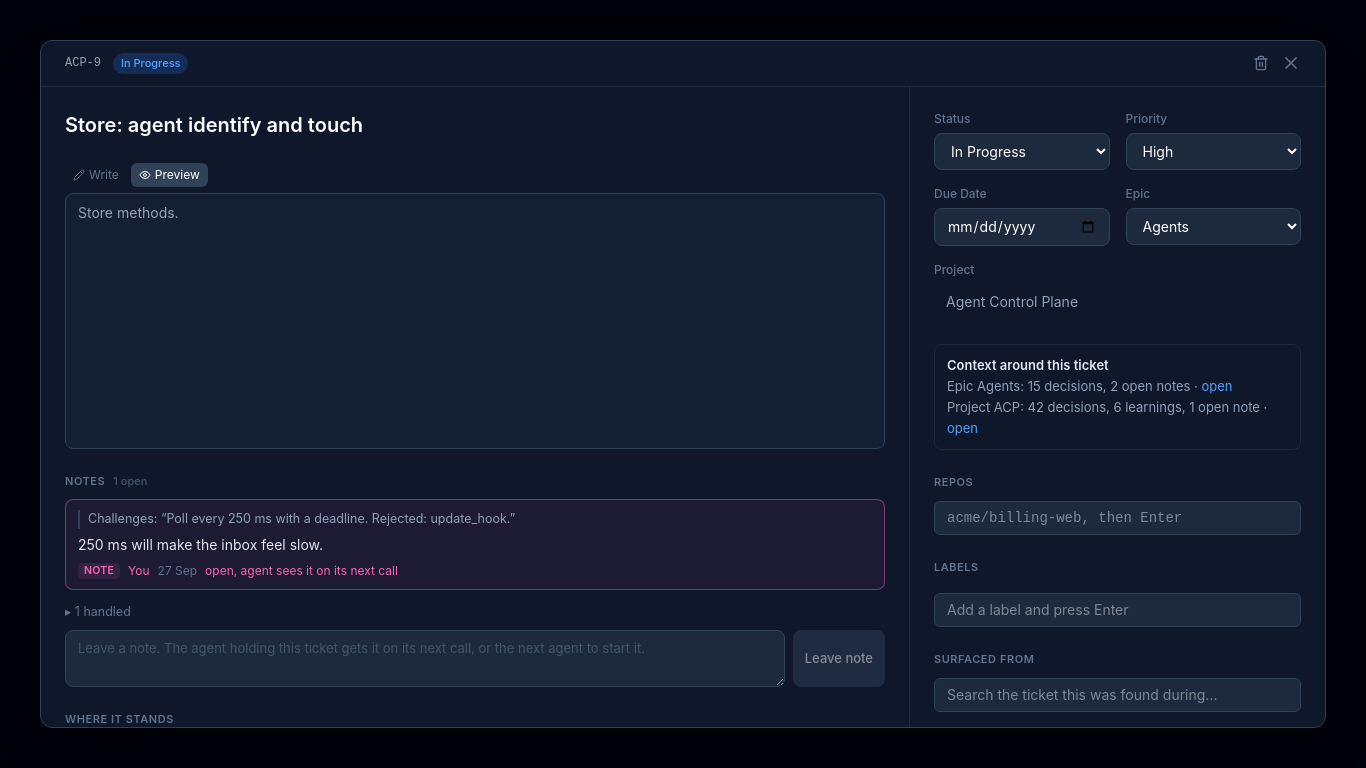
Test: the ticket page's entries › groups entries by type in reading order, status history last
Check: the text "Use a temp DB." is not shown
Click the button "▸ 1 handled": (98, 612) [65,603,131,622]
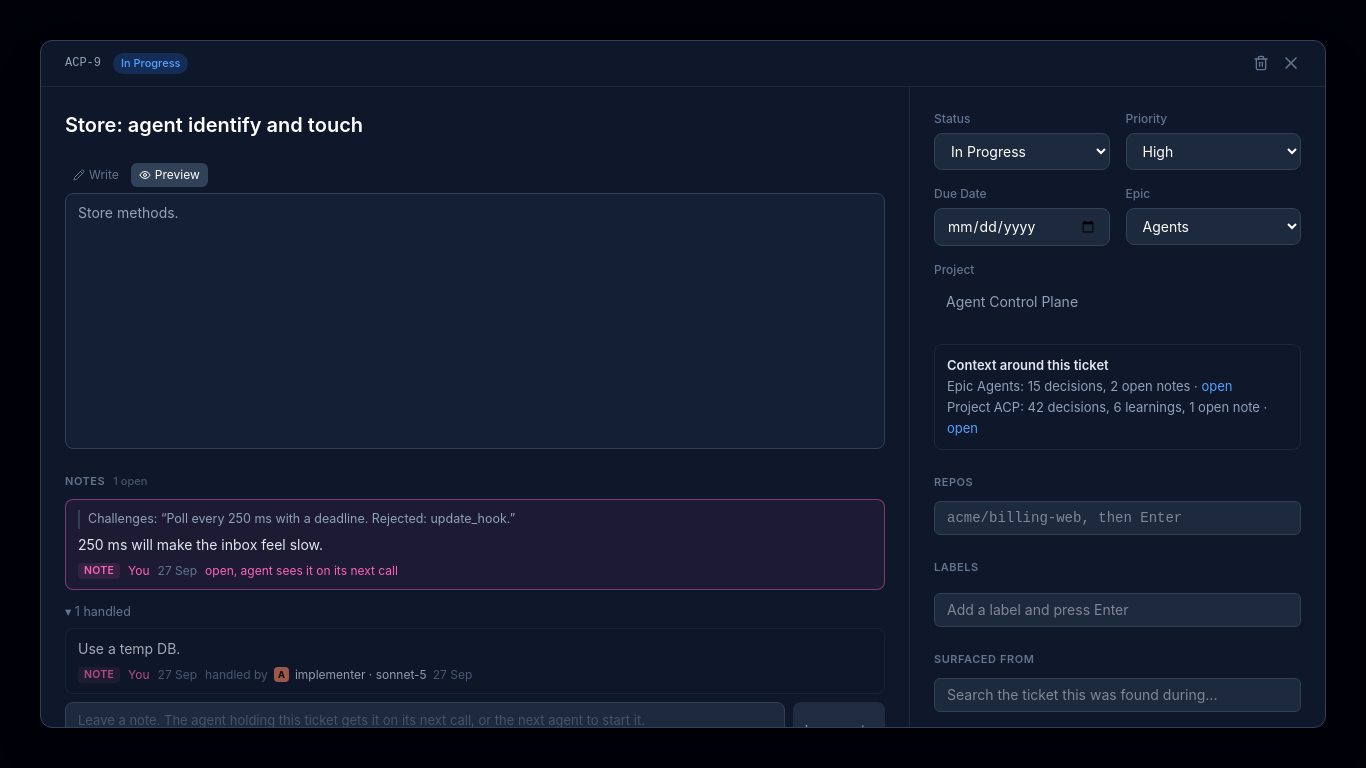
Check: the text "handled by A implementer · sonnet-5 27 Sep" is shown, box [205,667,472,683]
